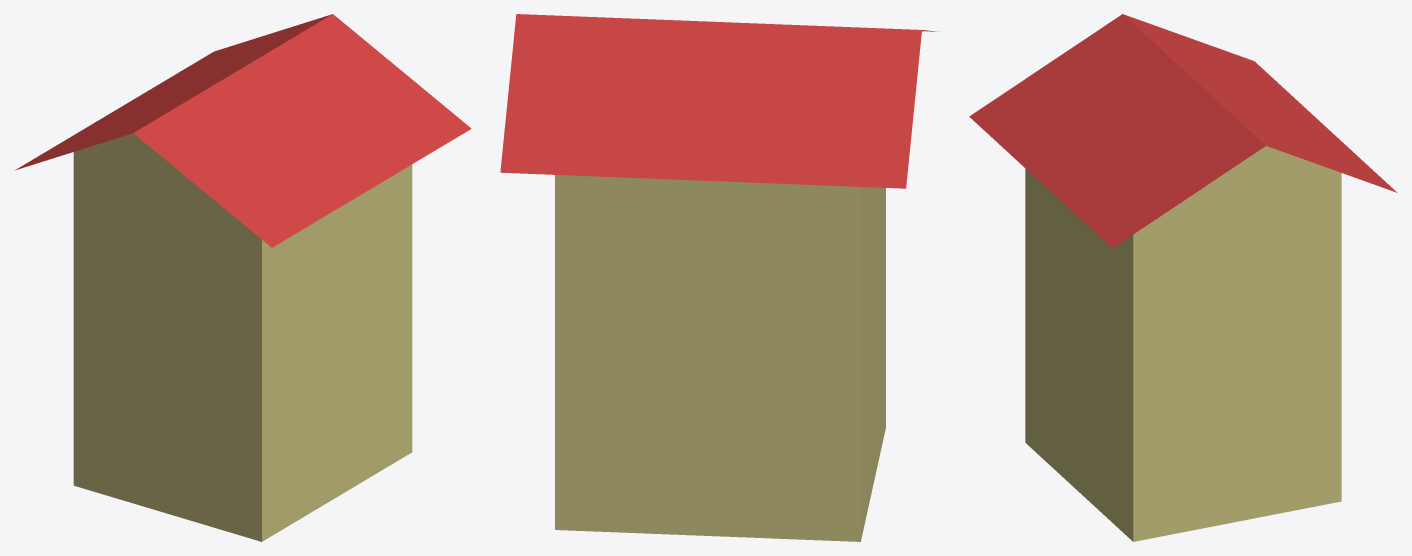
3 views of the same model, side by side, from view 1: azimuth 30°, elevation 25°; view 2: azimuth 150°, elevation 25°; view 3: azimuth 270°, elevation 25° (orthographic). The views are drawn at different scales.
Size of the model in its own units: 7.86 by 7.6 by 7.63.
